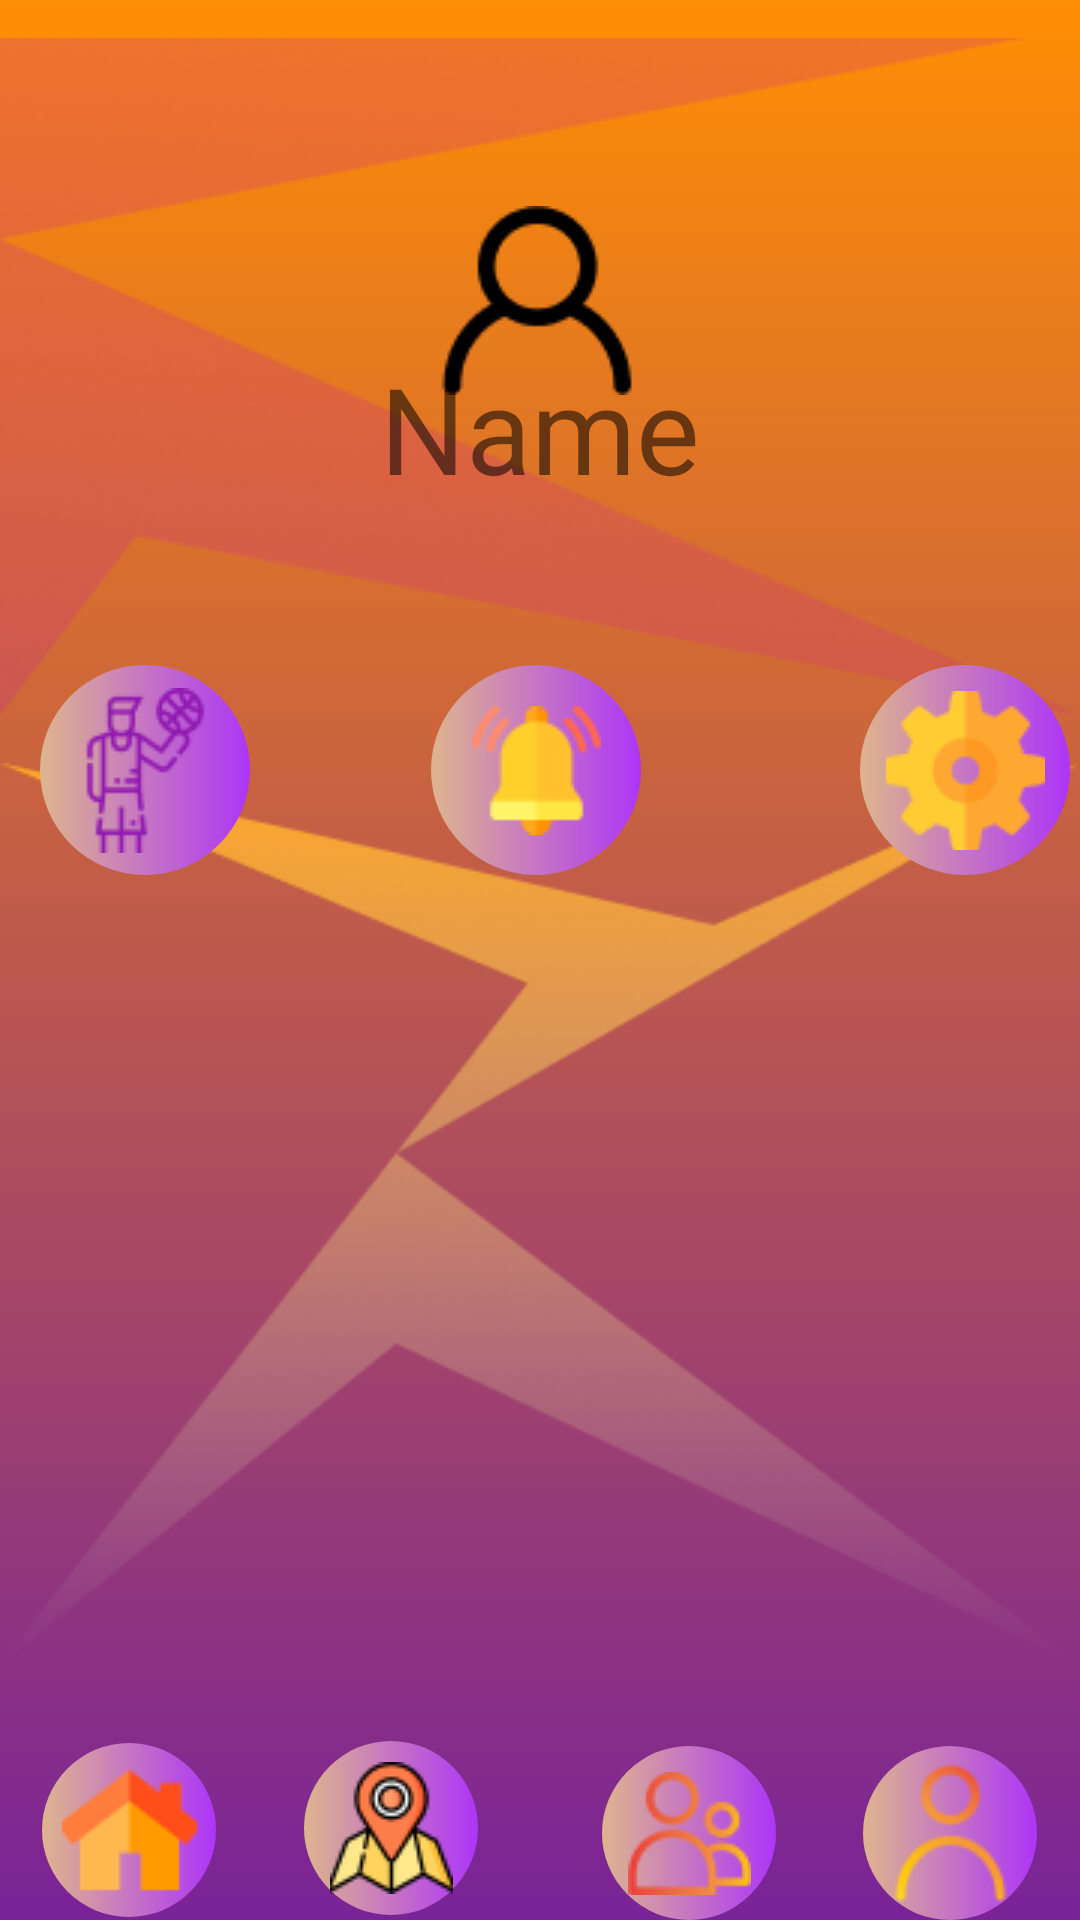

Point at icon controls on the screen. Image size 1080px×1920px, points as (x=x, y=y).
basketball: (x=145, y=770)
